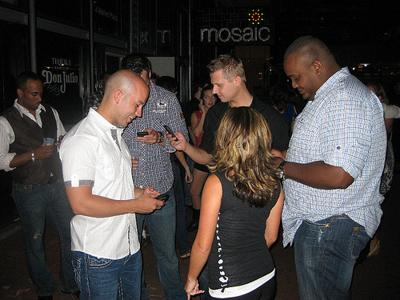person: (60, 67, 166, 300)
